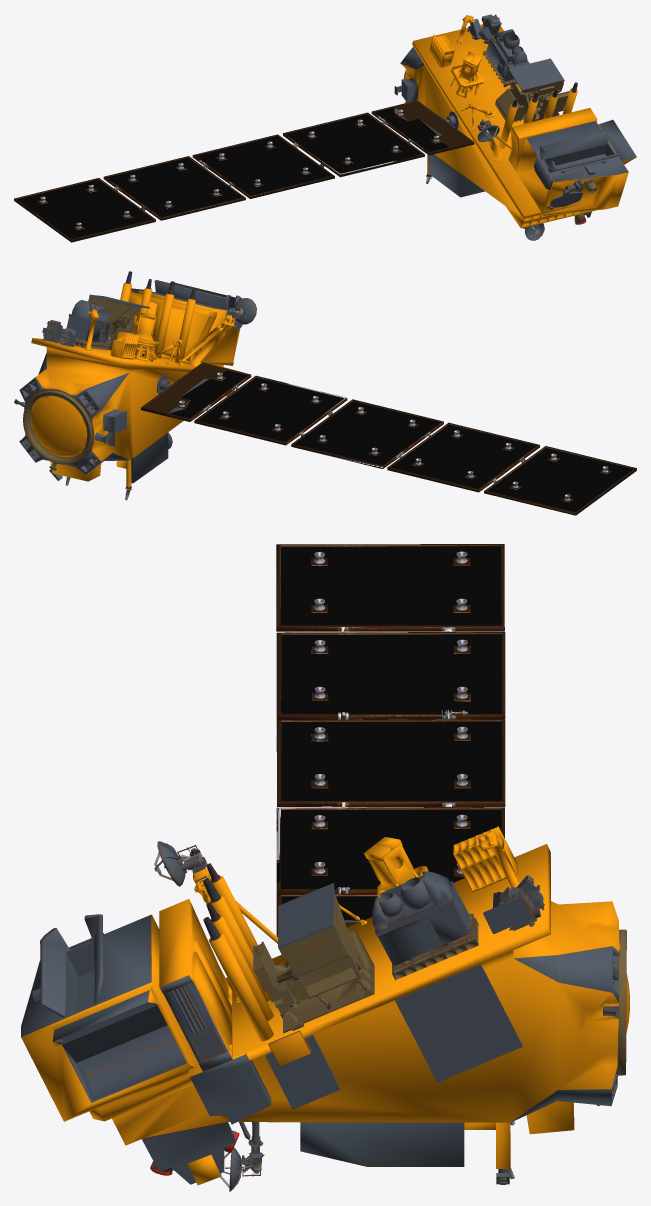
File: noaa21.glb
3 renders of one model, top to bottom at view 1: azimuth 30°, elevation 25°; view 2: azimuth 150°, elevation 25°; view 3: azimuth 270°, elevation 25°, orthographic. The views are drawn at different scales.
Visible parts, largest first — view 1: Main_Body.001_Cylinder.004, Panels_Lo_Res.002_Cylinder.001; view 2: Main_Body.001_Cylinder.004, Panels_Lo_Res.002_Cylinder.001; view 3: Main_Body.001_Cylinder.004, Panels_Lo_Res.002_Cylinder.001.
Part boxes in pixels (x1,y1,x2,y2): Main_Body.001_Cylinder.004: (394,14,636,240); Panels_Lo_Res.002_Cylinder.001: (14,100,474,242); Main_Body.001_Cylinder.004: (14,271,256,500); Panels_Lo_Res.002_Cylinder.001: (141,362,636,515); Main_Body.001_Cylinder.004: (21,826,629,1191); Panels_Lo_Res.002_Cylinder.001: (276,544,505,936).
Bounding box in the file's own units: 10.64 × 3.56 × 5.5.
7 materials, 2 textured.
